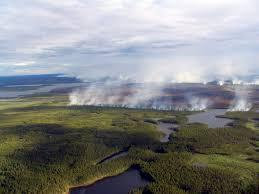smoke: (69, 58, 259, 116)
